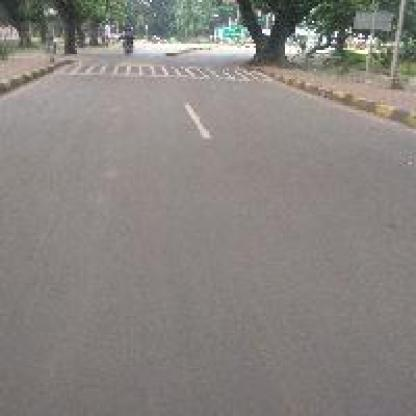Speed Bump: (50, 56, 270, 83)
